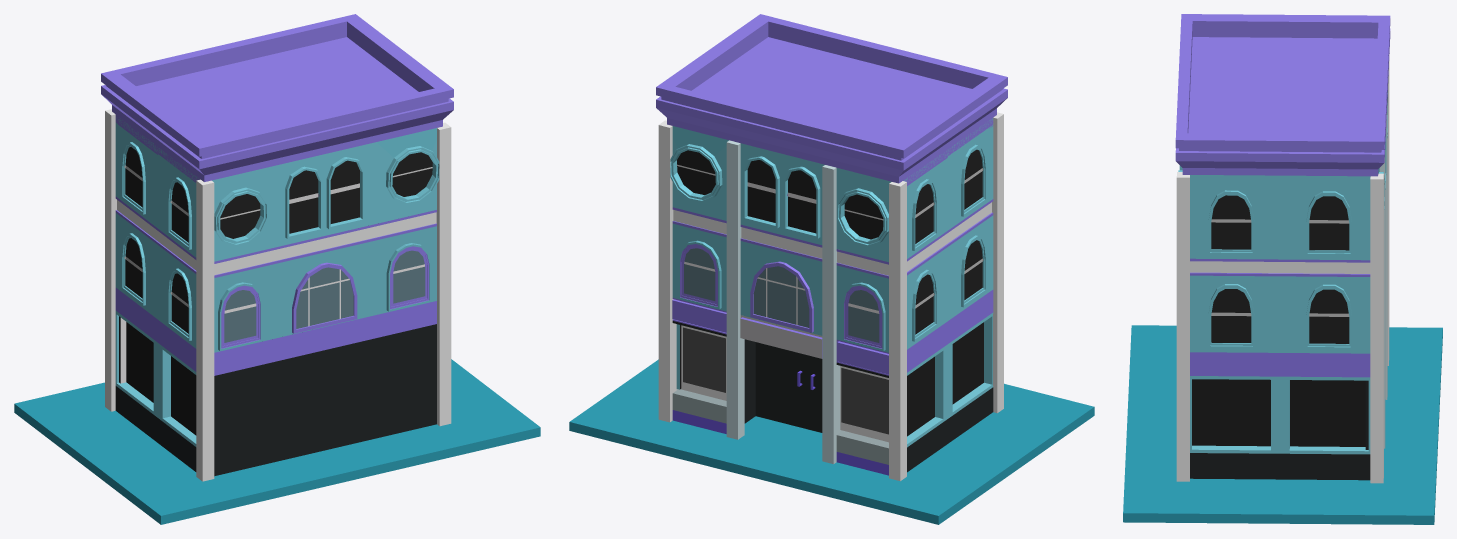
Rendered from commercial-purple.glb.
3 renders of one model, left to right at view 1: azimuth 30°, elevation 25°; view 2: azimuth 150°, elevation 25°; view 3: azimuth 270°, elevation 25°, orthographic. The views are drawn at different scales.
Visible parts, largest first — view 1: Object_21; view 2: Object_21; view 3: Object_21.
Boxes of the visible parts, x1,y1,x2,y2 form: Object_21: (14,14,540,524); Object_21: (569,14,1094,524); Object_21: (1123,14,1442,524).
Size of the model in its own units: 15.67 by 13.5 by 11.12.
Materials: 1 (1 with a texture image).
